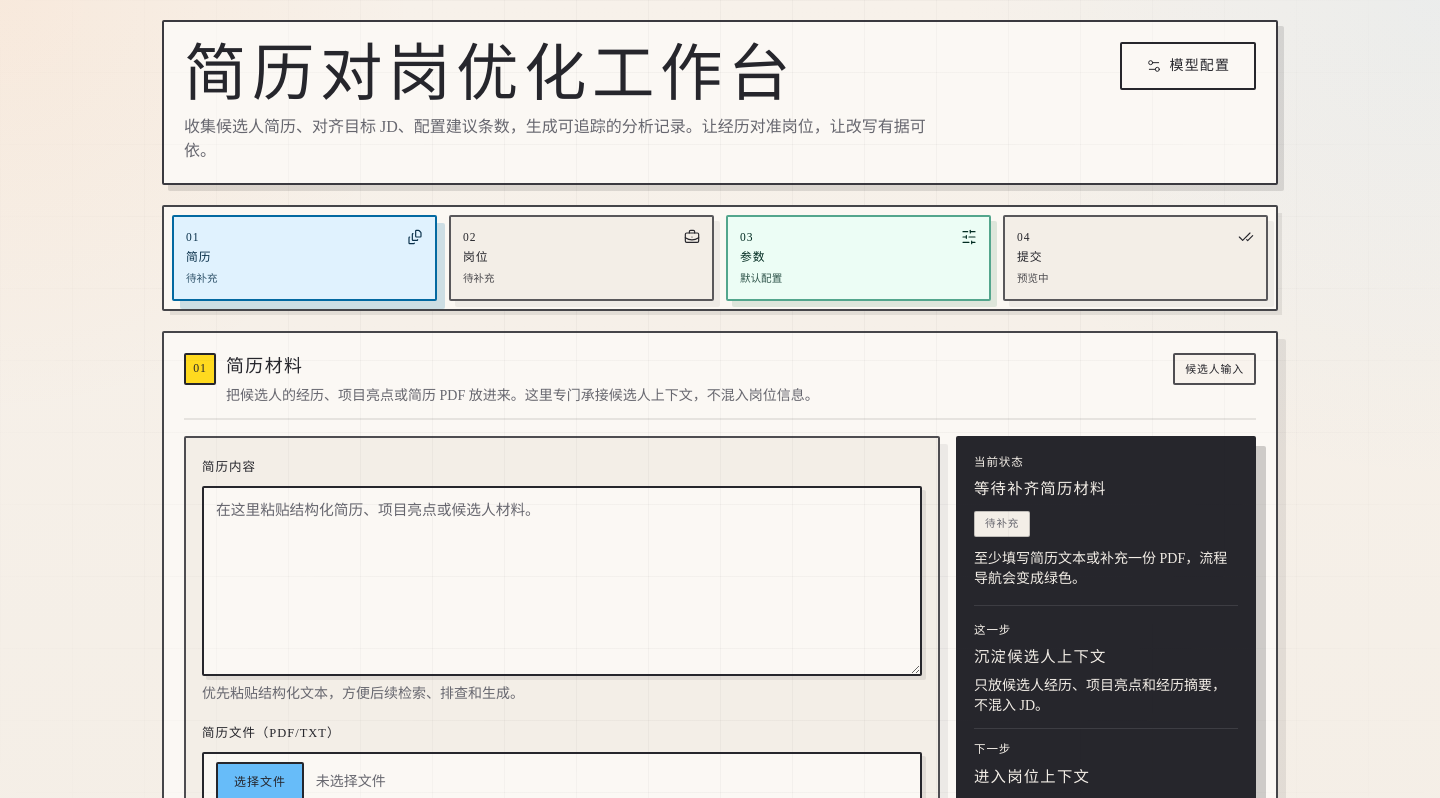
Test: ResumeReviewForm › keeps submit preview-only when 岗位描述 is the only completed main input
Click the button with aria-label "02 岗位上下文" at (479, 279), box [449, 215, 714, 301]
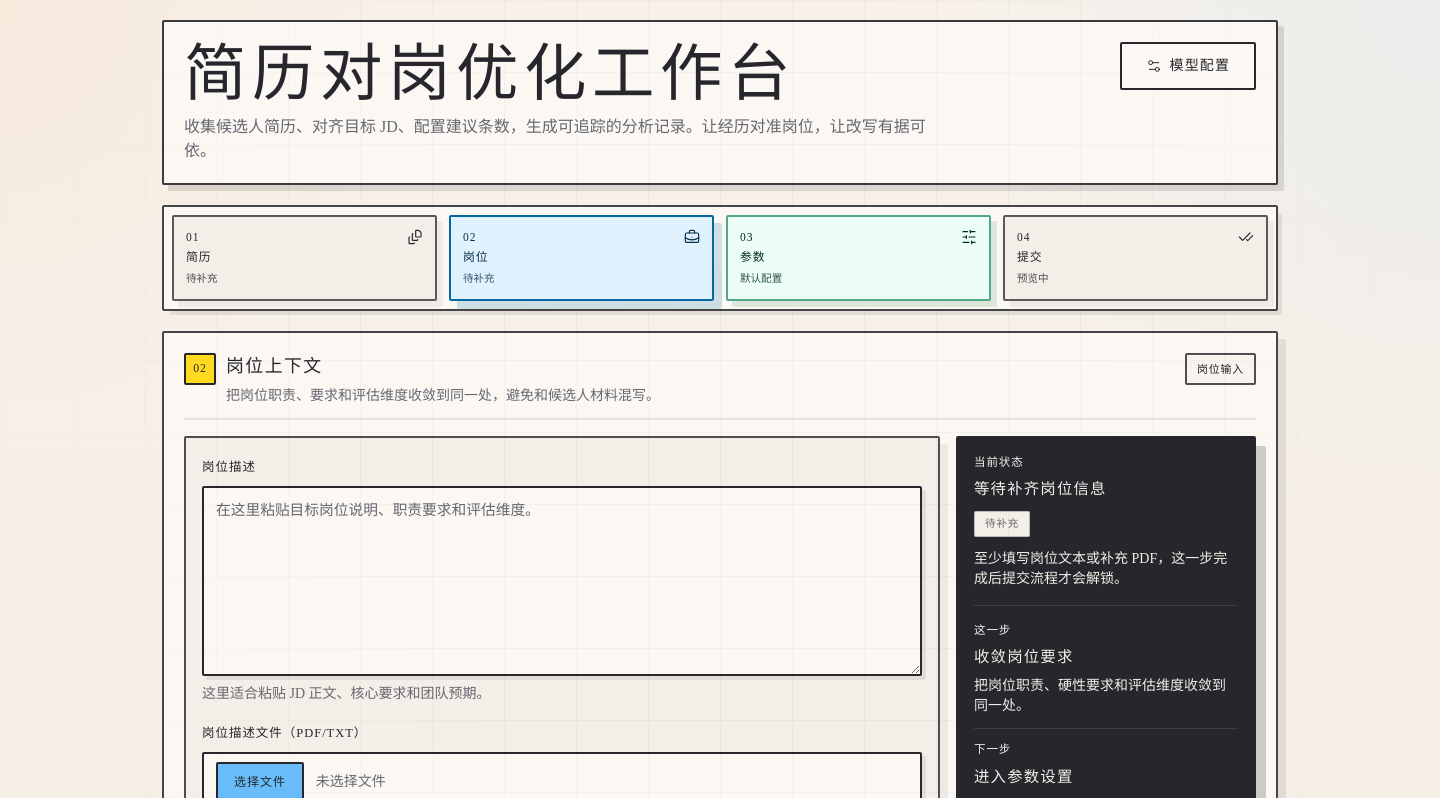
Type "Backend role requires strong systems design." into the text box labelled "岗位描述" at (562, 581), box [202, 486, 922, 676]
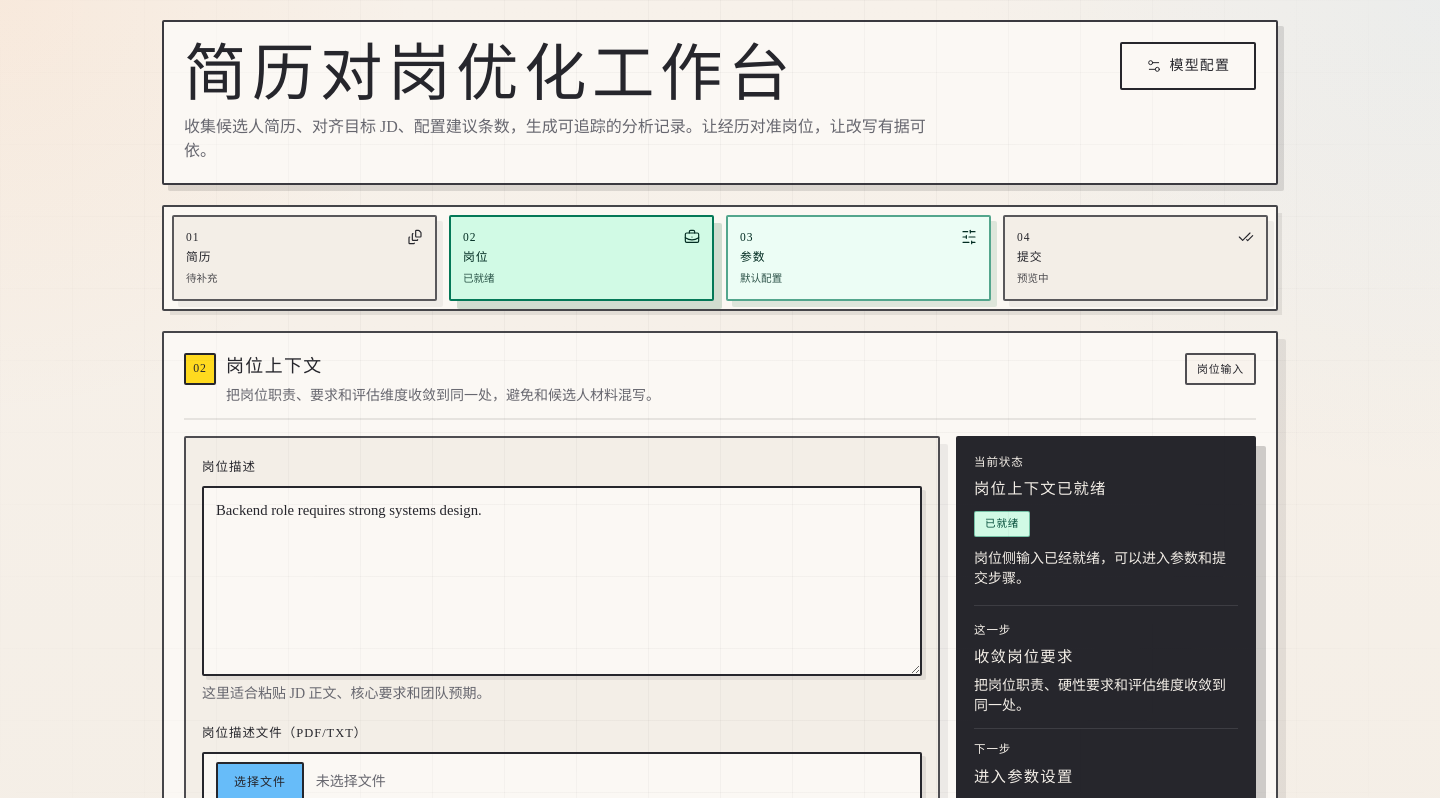
Click the button with aria-label "04 提交生成" at (1033, 279), box [1003, 215, 1268, 301]
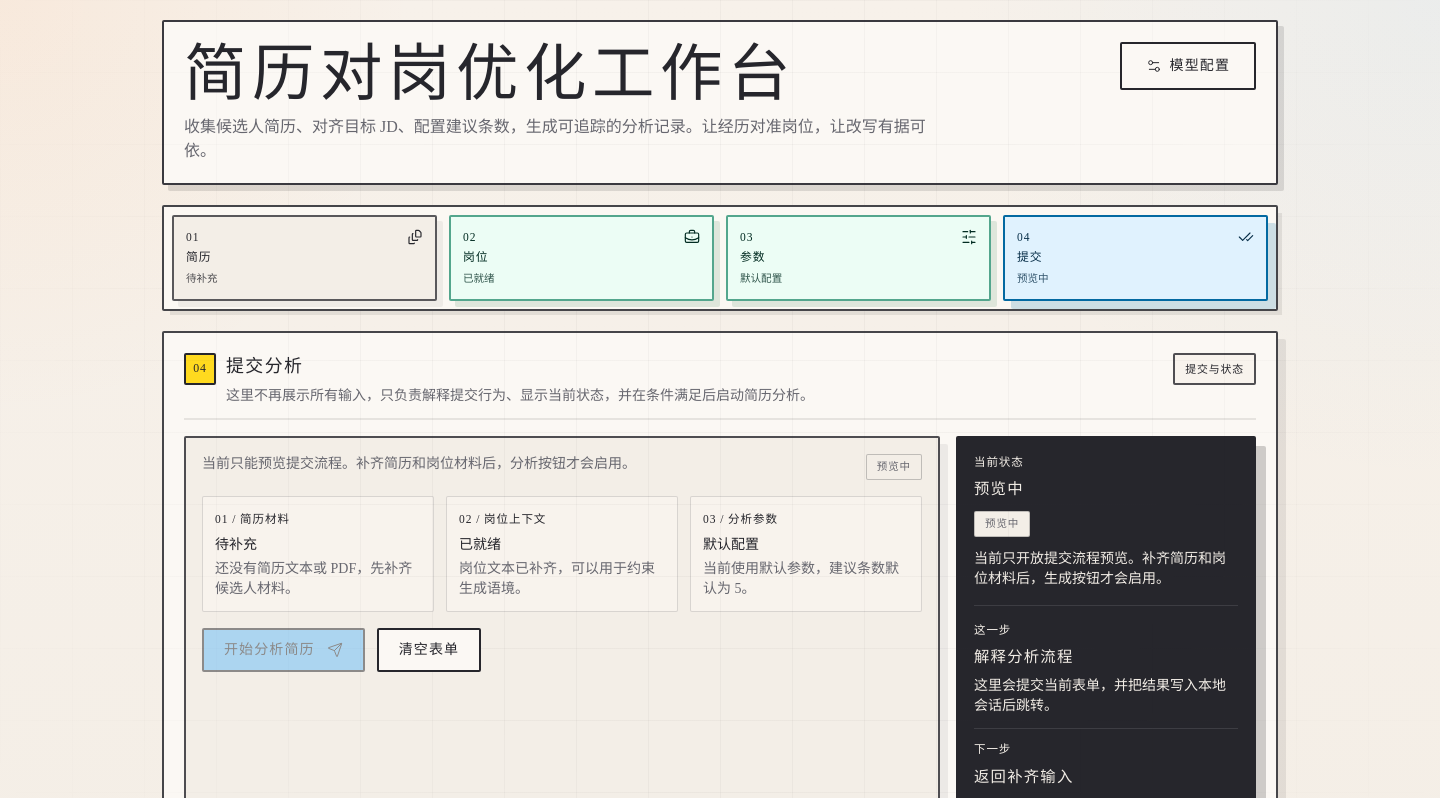
Expected: the button "开始分析简历" is disabled, [202, 628, 365, 672]
Expected: the text "当前只能预览提交流程。补齐简历和岗位材料后，分析按钮才会启用。" is shown, [202, 454, 636, 474]
